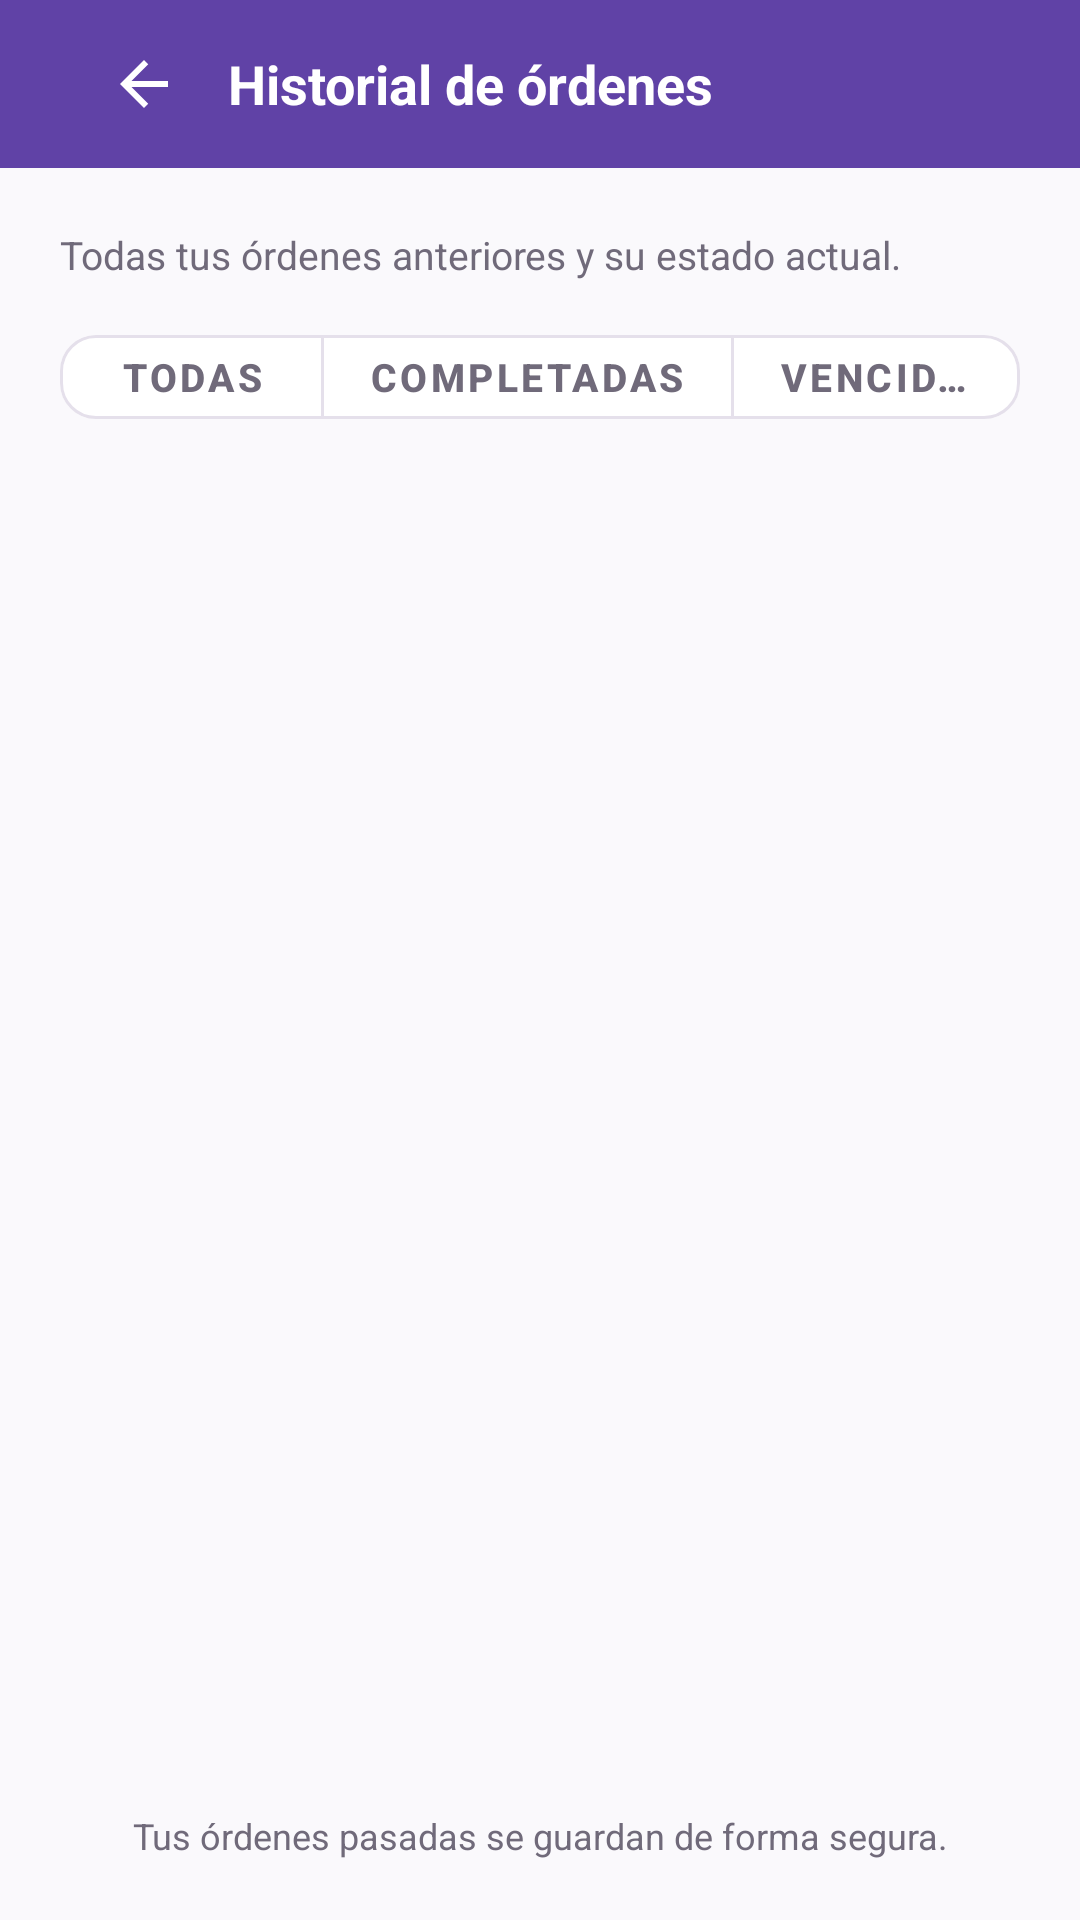

Point at icon controls on the screen. Image size 1080w x 1920h, points as [x,y].
Volver: [144,84]
